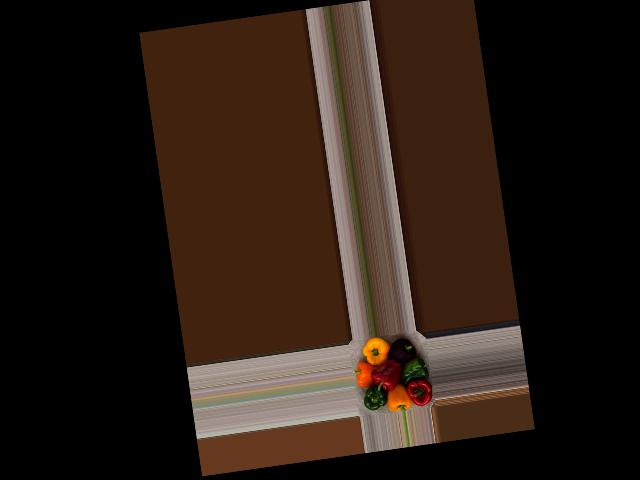bell_pepper: (386, 336, 425, 371)
